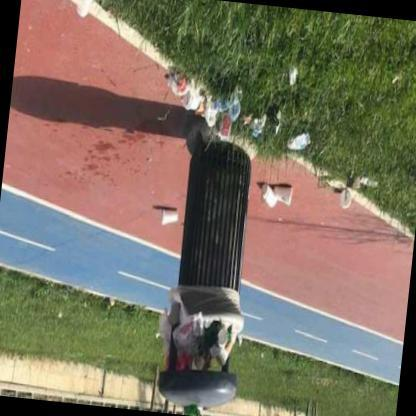Garbage: (162, 61, 250, 142), (172, 313, 238, 374), (256, 172, 298, 221), (335, 168, 364, 216), (173, 330, 206, 365), (153, 310, 171, 370), (242, 110, 272, 140), (283, 124, 312, 152), (70, 0, 100, 25), (148, 204, 178, 228), (210, 334, 233, 362), (187, 322, 206, 352), (278, 62, 296, 90)
